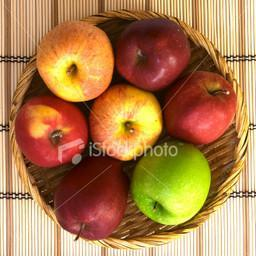apple: (132, 141, 211, 225), (35, 21, 114, 104), (88, 84, 165, 168), (55, 158, 129, 240), (113, 18, 190, 92), (164, 71, 237, 143), (17, 97, 88, 170)
